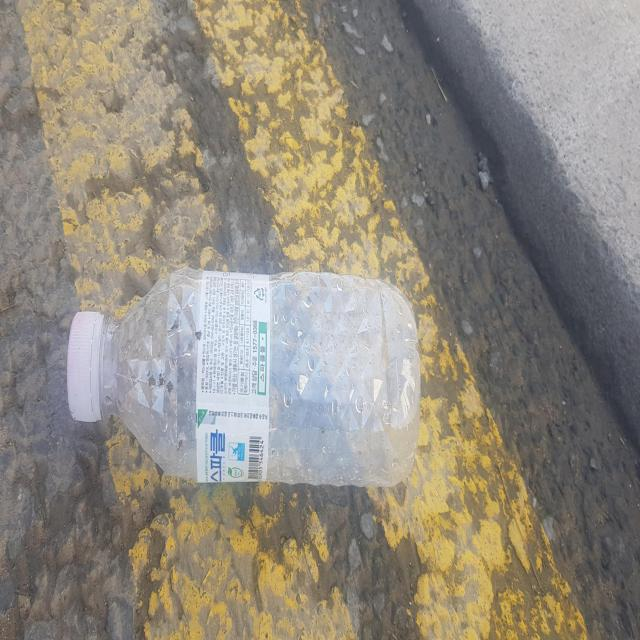plastic: (66, 267, 421, 486)
